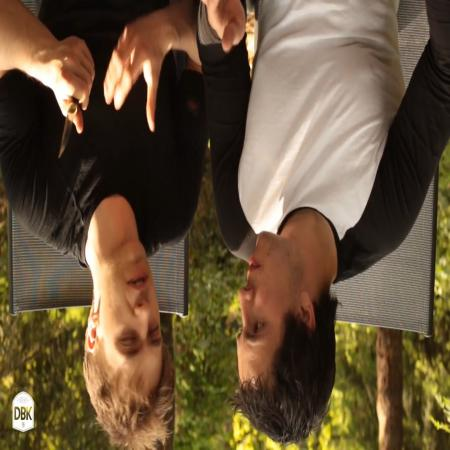long weapon: (45, 53, 97, 175)
